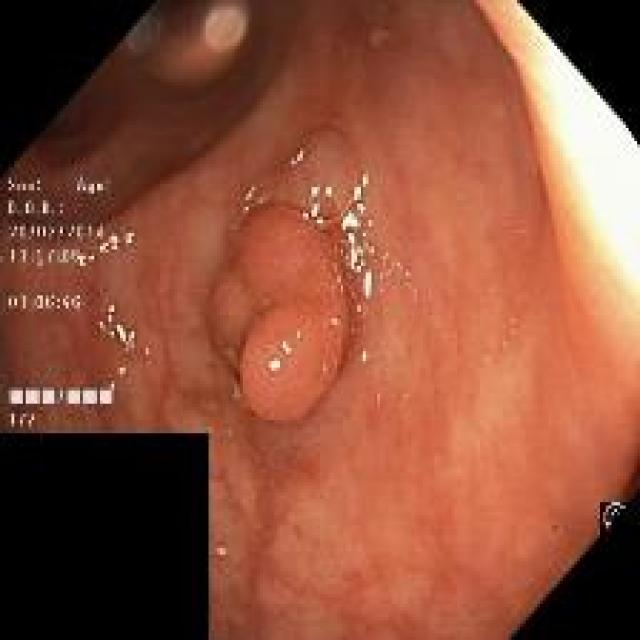Polyps: (210, 204, 351, 422)
